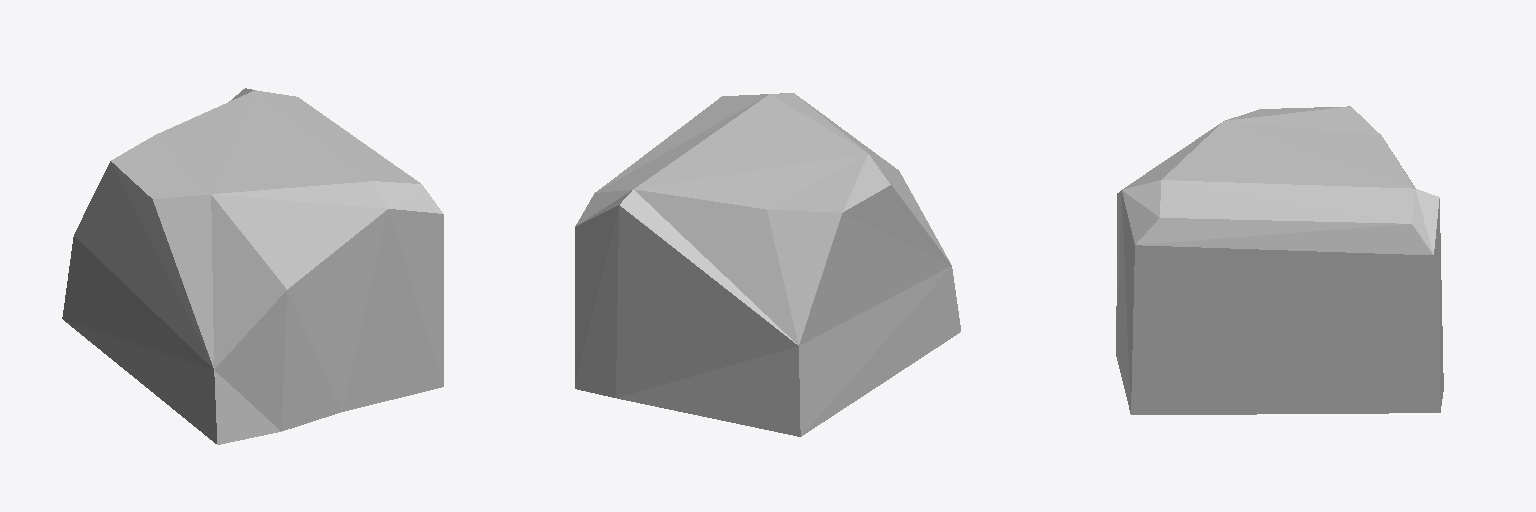
File: roccia2.obj
3 views of the same model, side by side, from view 1: azimuth 30°, elevation 25°; view 2: azimuth 150°, elevation 25°; view 3: azimuth 270°, elevation 25° (orthographic).
Visible parts, largest first — view 1: LP_Roccia2; view 2: LP_Roccia2; view 3: LP_Roccia2.
Boxes of the visible parts, x1=… form: LP_Roccia2: x1=62, y1=88, x2=443, y2=444; LP_Roccia2: x1=575, y1=93, x2=960, y2=436; LP_Roccia2: x1=1116, y1=106, x2=1443, y2=414.
Bounding box in the file's own units: 0.3438 × 0.2953 × 0.4207.